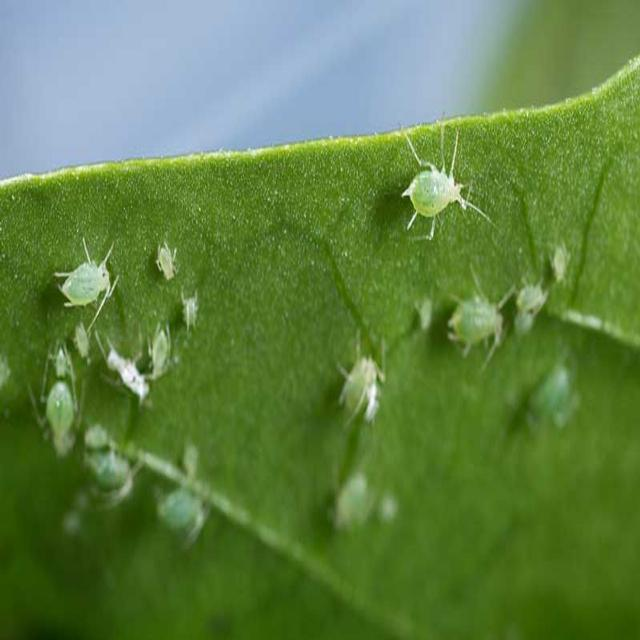Aphid-Grown-: (392, 116, 484, 250), (435, 261, 515, 374), (52, 229, 116, 320), (151, 236, 187, 291), (176, 287, 214, 338)
